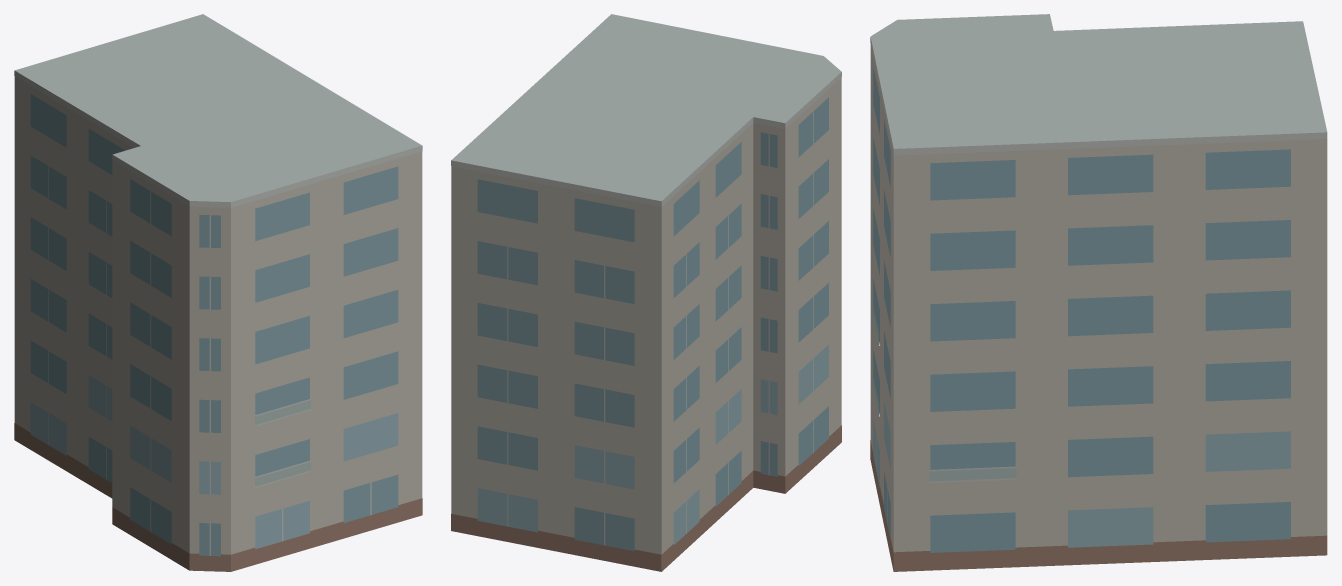
Rendered from survey-upis-32957255.glb.
3 renders of one model, left to right at view 1: azimuth 30°, elevation 25°; view 2: azimuth 150°, elevation 25°; view 3: azimuth 270°, elevation 25°, orthographic. The views are drawn at different scales.
Parts seen in each view (by area): view 1: survey-upis-32957255.tmp; view 2: survey-upis-32957255.tmp; view 3: survey-upis-32957255.tmp.
Part boxes in pixels (x1=…): survey-upis-32957255.tmp: x1=14, y1=14, x2=422, y2=571; survey-upis-32957255.tmp: x1=451, y1=14, x2=841, y2=571; survey-upis-32957255.tmp: x1=870, y1=14, x2=1327, y2=571.
Bounding box in the file's own units: 10.82 × 15.8 × 15.48.
